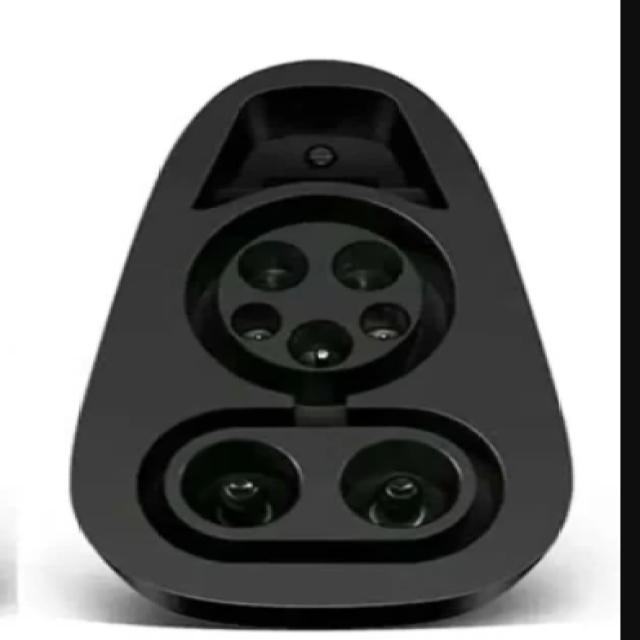CCS1: (38, 59, 601, 626)
